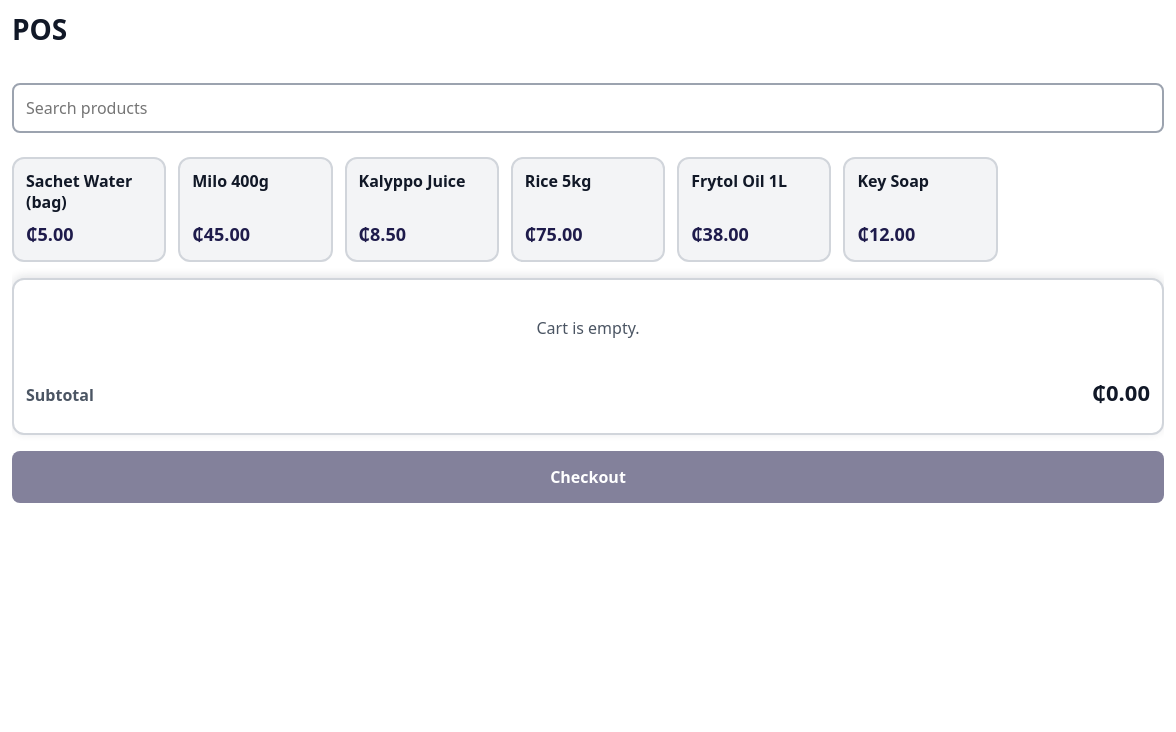
it: PosScreen — product search › narrows the grid to matching products as the cashier types
The width and height of the screenshot is (1176, 732).
Type "milo" into the search field labelled "Search products" at (588, 108), box [12,83,1164,133]
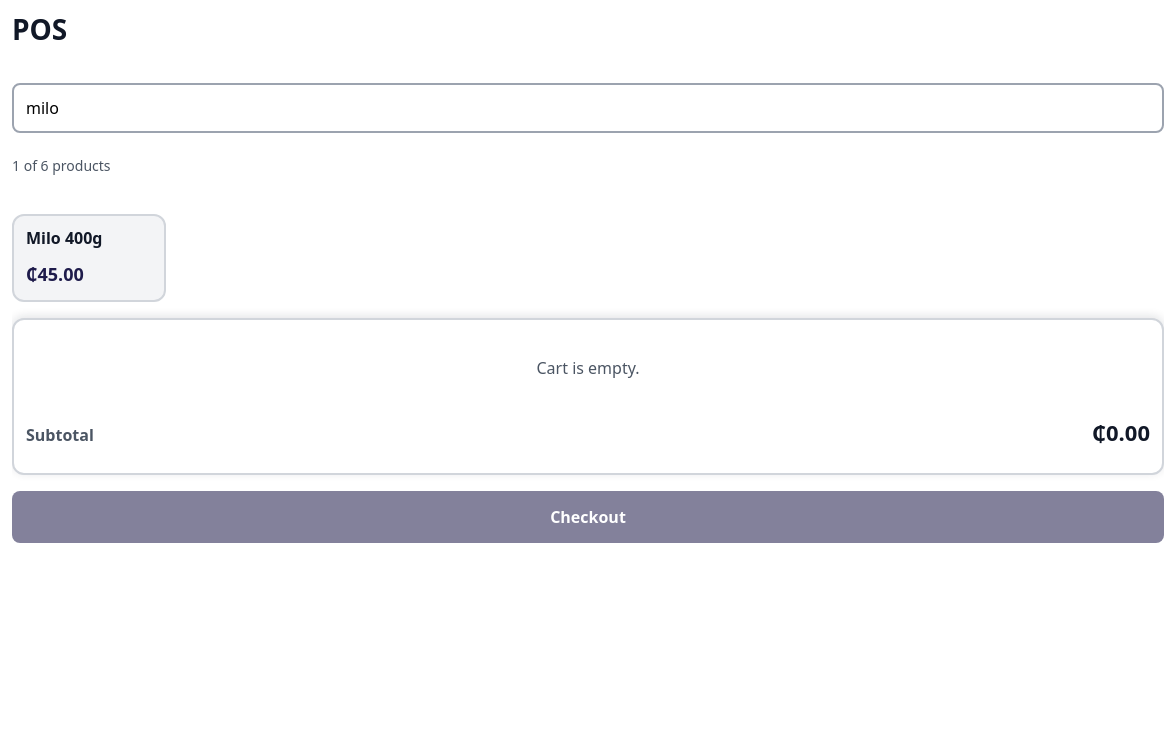
Expected: the button "Milo 400g ₵45.00" is shown, [12,214,166,302]
Now the button "Rice 5kg" is gone
Now the button "Key Soap" is gone
